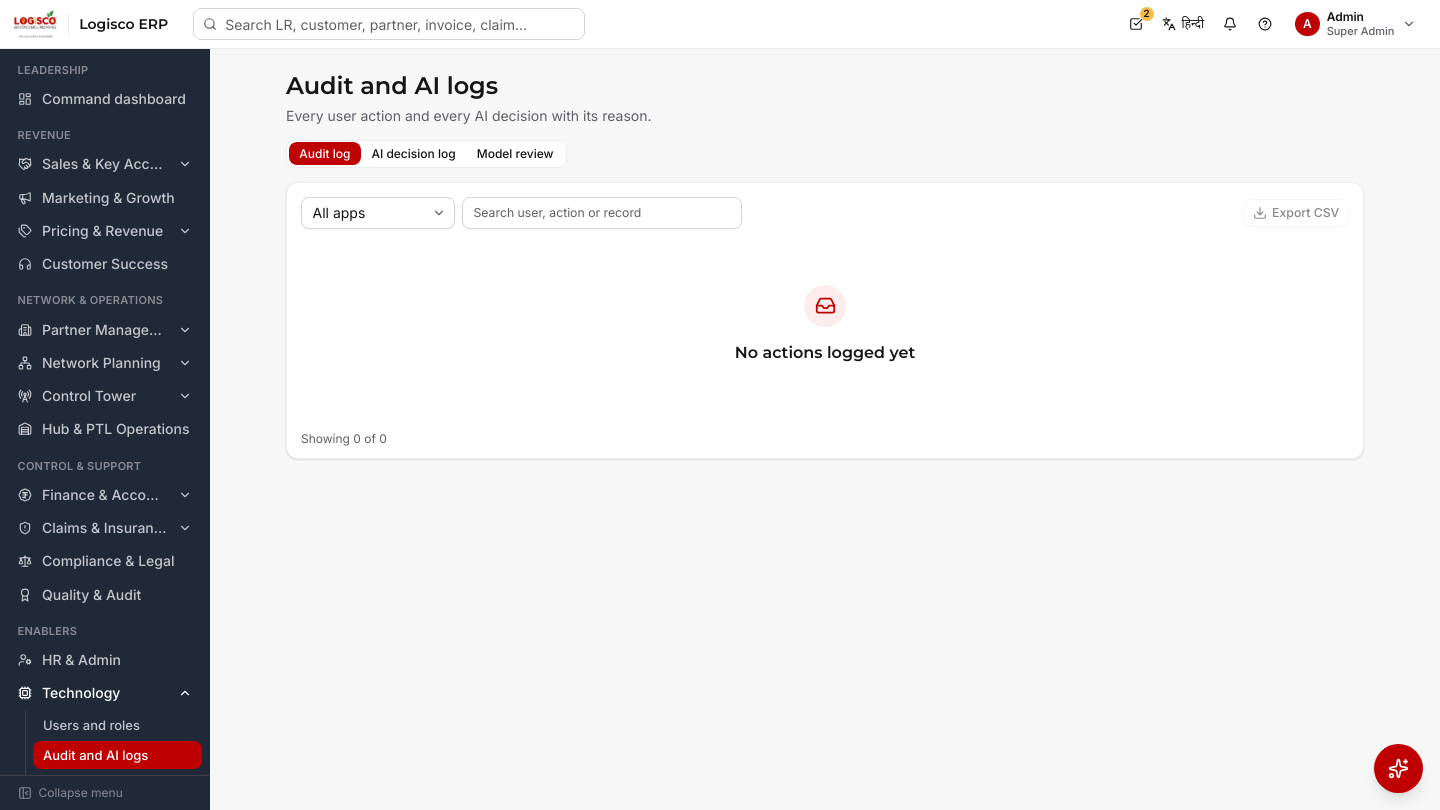
Test: AI assistants: CP-35, PP-37, PA-11, ERP-02 › ERP-02: lanes below target margin
Click the button named "Open the AI assistant": x=1398, y=768 [1374, 744, 1422, 792]
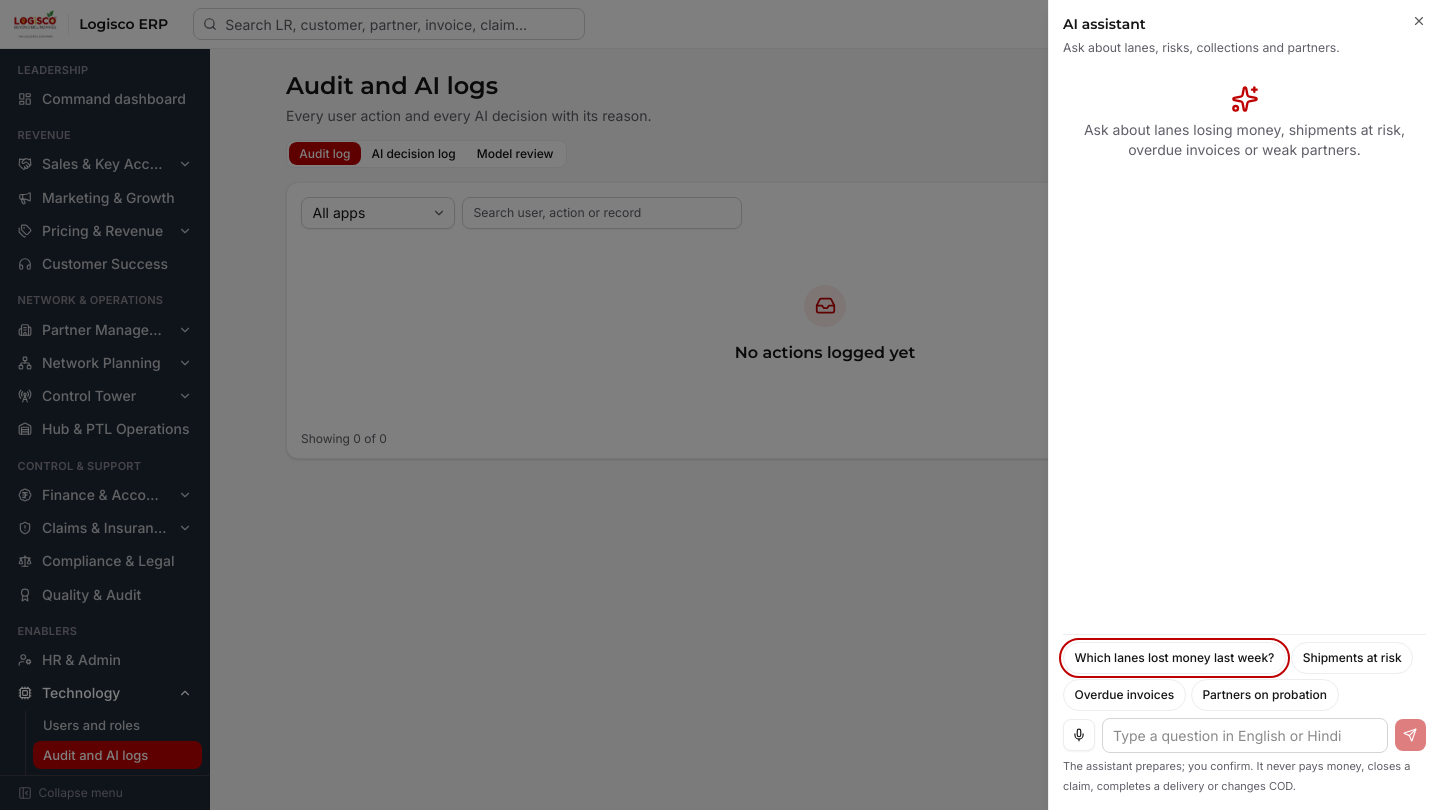
Click the button "Which lanes lost money last week?": x=1174, y=658 [1063, 642, 1286, 674]
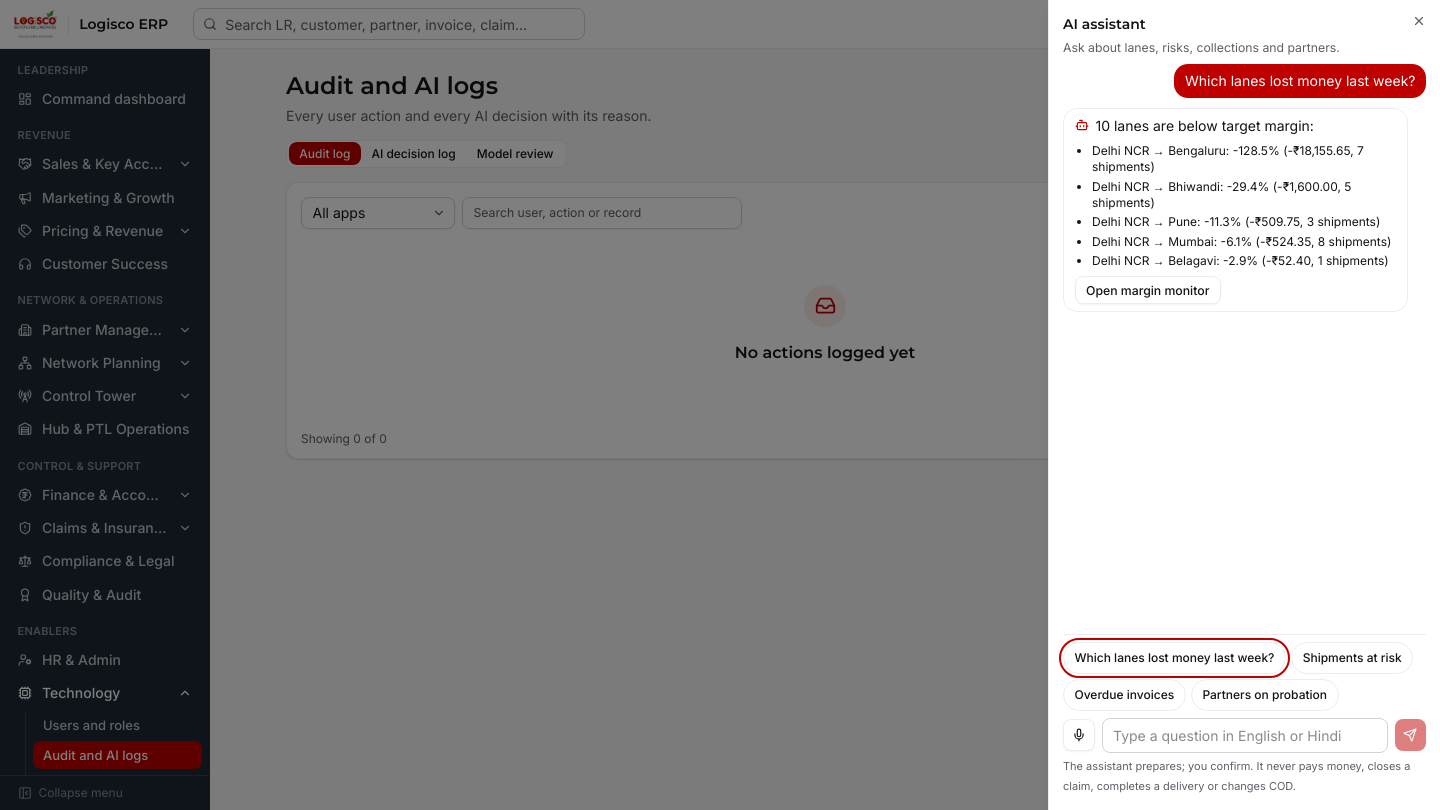
Result: the text "10 lanes are below target margin:" is shown at [1096, 116, 1314, 136]
